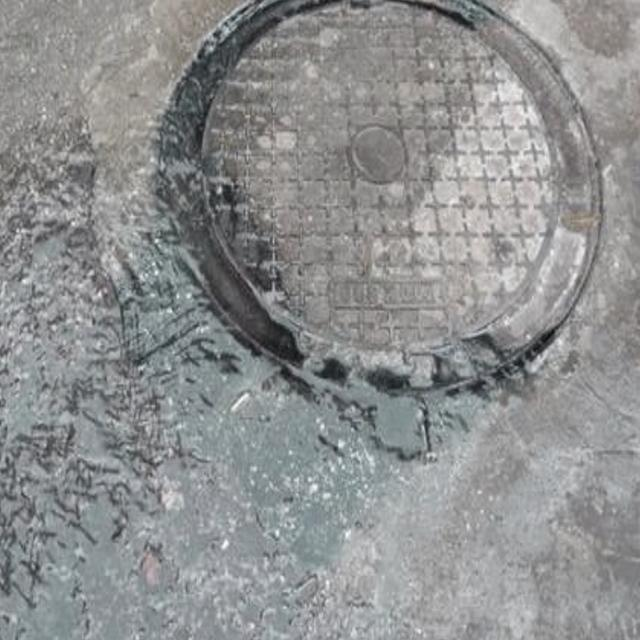circle: (90, 0, 639, 503)
